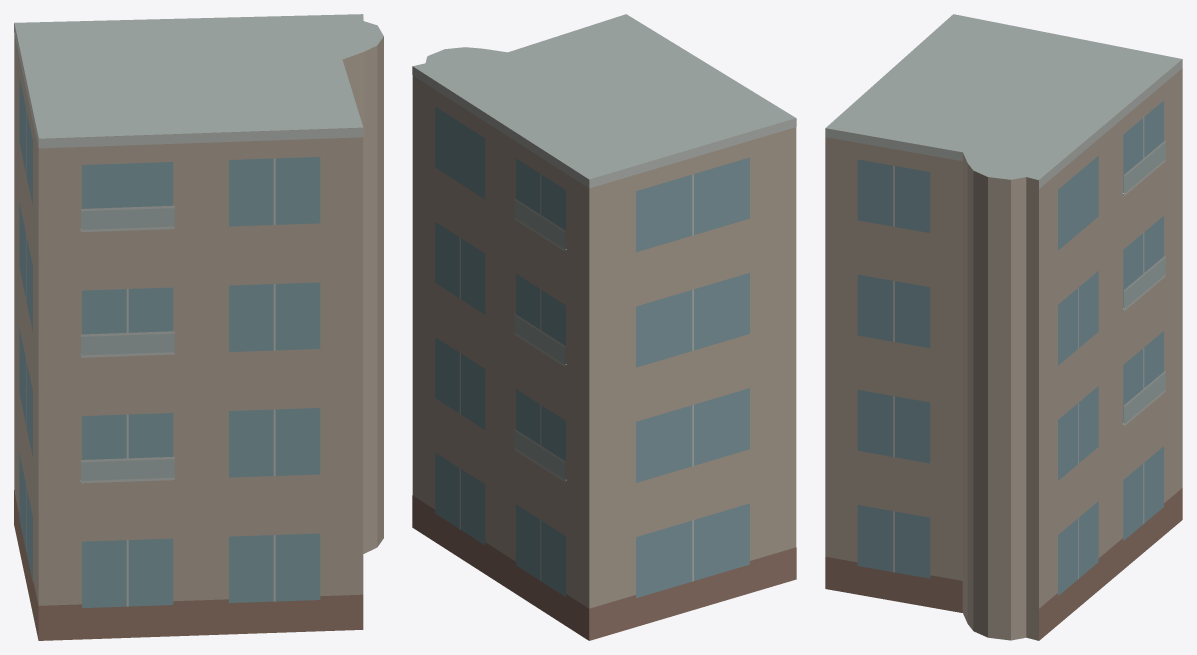
File: survey-upis-32958167.glb
The picture shows the model from 3 angles, left to right: view 1: azimuth 30°, elevation 25°; view 2: azimuth 150°, elevation 25°; view 3: azimuth 270°, elevation 25°; orthographic projection. The views are drawn at different scales.
Visible parts, largest first — view 1: survey-upis-32958167.tmp; view 2: survey-upis-32958167.tmp; view 3: survey-upis-32958167.tmp.
Part boxes in pixels (x1,y1,x2,y2): survey-upis-32958167.tmp: (14, 14, 383, 640); survey-upis-32958167.tmp: (412, 14, 796, 640); survey-upis-32958167.tmp: (825, 14, 1182, 640).
Size of the model in its own units: 9.75 by 12.6 by 8.87.
